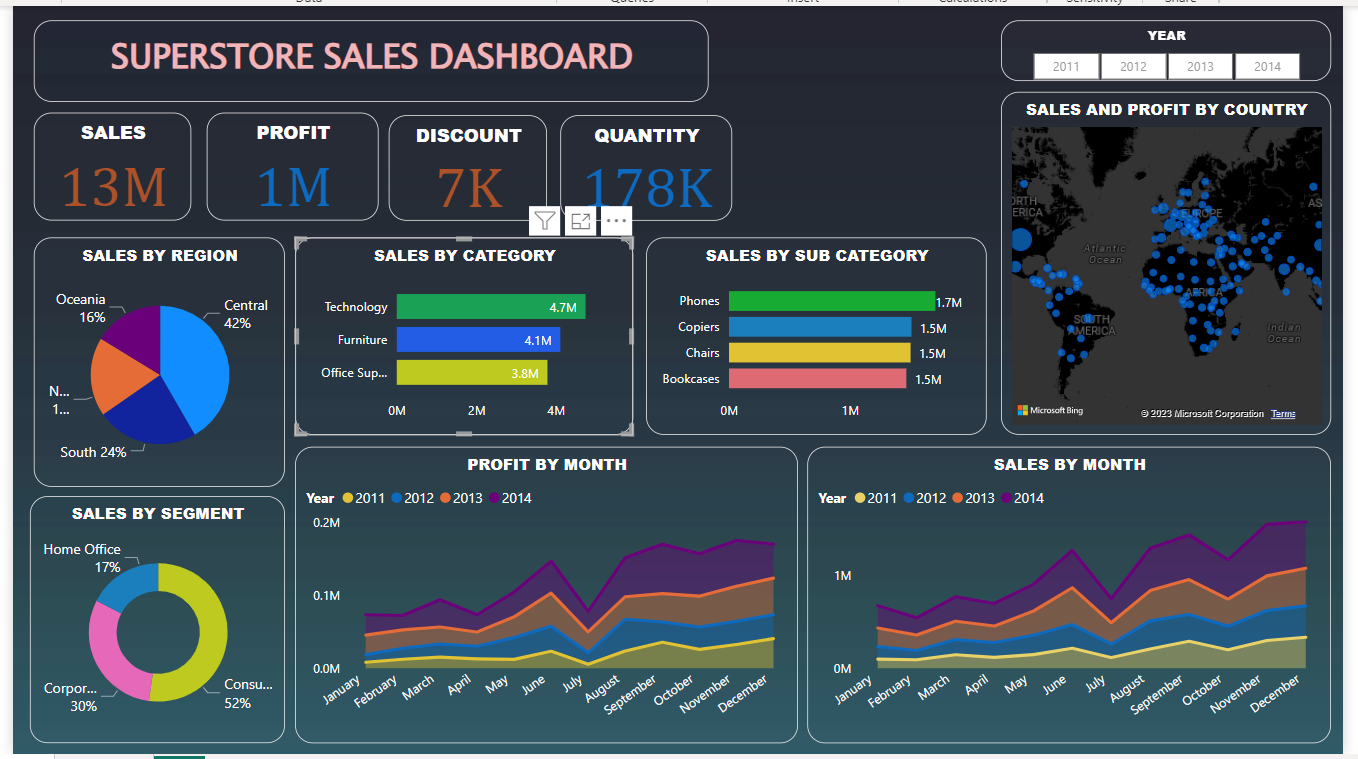

The page's visual inventory and layout, read from the dashboard file:
{"tool":"powerbi","page":{"name":"Page 1","canvas":[1280,720],"ordinal":0},"visuals":[{"type":"textbox","box":[20,13.8,649.1,78.8],"z":0},{"type":"stackedAreaChart","title":" SALES BY MONTH","fields":{"Y":["Sum(SuperStoreOrders.sales)"],"Category":["SuperStoreOrders.order_date.Variation.Date Hierarchy.Month"],"Series":["SuperStoreOrders.order_date.Variation.Date Hierarchy.Year"]},"box":[764.2,424,504.1,285.2],"z":1000},{"type":"pieChart","title":"SALES BY REGION","fields":{"Category":["SuperStoreOrders.region"],"Y":["Sum(SuperStoreOrders.sales)"]},"box":[20,222.6,241.4,240.1],"z":2000},{"type":"donutChart","title":"SALES BY SEGMENT","fields":{"Category":["SuperStoreOrders.segment"],"Y":["Sum(SuperStoreOrders.sales)"]},"box":[16.3,471.5,245.1,237.6],"z":3000},{"type":"card","title":"SALES","fields":{"Values":["Sum(SuperStoreOrders.sales)"]},"box":[20,102.6,151.3,103.8],"z":4000},{"type":"card","title":"PROFIT","fields":{"Values":["Sum(SuperStoreOrders.profit)"]},"box":[186.4,102.6,165.1,103.8],"z":5000},{"type":"card","title":"DISCOUNT","fields":{"Values":["Sum(SuperStoreOrders.discount)"]},"box":[361.5,105.1,152.6,101.3],"z":6000},{"type":"card","title":"QUANTITY","fields":{"Values":["Sum(SuperStoreOrders.quantity)"]},"box":[526.6,105.1,165.1,101.3],"z":7000},{"type":"stackedAreaChart","title":" PROFIT BY MONTH","fields":{"Y":["Sum(SuperStoreOrders.profit)"],"Category":["SuperStoreOrders.order_date.Variation.Date Hierarchy.Month"],"Series":["SuperStoreOrders.order_date.Variation.Date Hierarchy.Year"]},"box":[271.4,424,484,285.2],"z":8000},{"type":"clusteredBarChart","title":"SALES BY CATEGORY","fields":{"Y":["Sum(SuperStoreOrders.sales)"],"Category":["SuperStoreOrders.category"]},"box":[271.4,222.6,325.2,190.1],"z":9000},{"type":"clusteredBarChart","title":"SALES BY SUB CATEGORY","fields":{"Y":["Sum(SuperStoreOrders.sales)"],"Category":["SuperStoreOrders.sub_category"]},"box":[609.1,222.6,327.7,190.1],"z":10000},{"type":"map","title":"SALES AND PROFIT BY COUNTRY","fields":{"Category":["SuperStoreOrders.country"],"Size":["Sum(SuperStoreOrders.sales)"]},"box":[950.6,82.5,317.7,330.2],"z":11000},{"type":"slicer","title":"YEAR","fields":{"Values":["SuperStoreOrders.year"]},"box":[950.6,13.8,317.7,58.8],"z":12000}]}

Visuals, with their boxes on the page's 1280x720 design canvas (x1, y1, x2, y2). These are canvas units, not pixel positions in the 1358x759 screenshot, which may show the page scaled, cropped or inside an application window:
textbox: BBox(20, 14, 669, 93)
" SALES BY MONTH" stackedAreaChart: BBox(764, 424, 1268, 709)
"SALES BY REGION" pieChart: BBox(20, 223, 261, 463)
"SALES BY SEGMENT" donutChart: BBox(16, 472, 261, 709)
"SALES" card: BBox(20, 103, 171, 206)
"PROFIT" card: BBox(186, 103, 352, 206)
"DISCOUNT" card: BBox(362, 105, 514, 206)
"QUANTITY" card: BBox(527, 105, 692, 206)
" PROFIT BY MONTH" stackedAreaChart: BBox(271, 424, 755, 709)
"SALES BY CATEGORY" clusteredBarChart: BBox(271, 223, 597, 413)
"SALES BY SUB CATEGORY" clusteredBarChart: BBox(609, 223, 937, 413)
"SALES AND PROFIT BY COUNTRY" map: BBox(951, 82, 1268, 413)
"YEAR" slicer: BBox(951, 14, 1268, 73)
